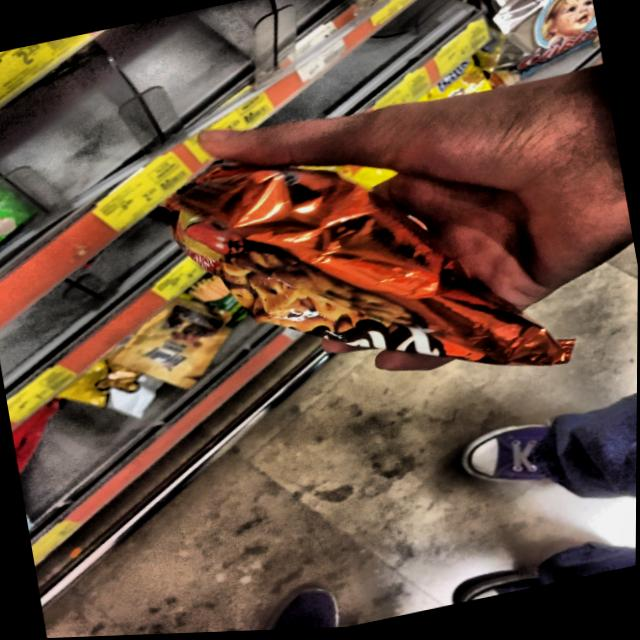Plastic: (148, 85, 598, 449)
